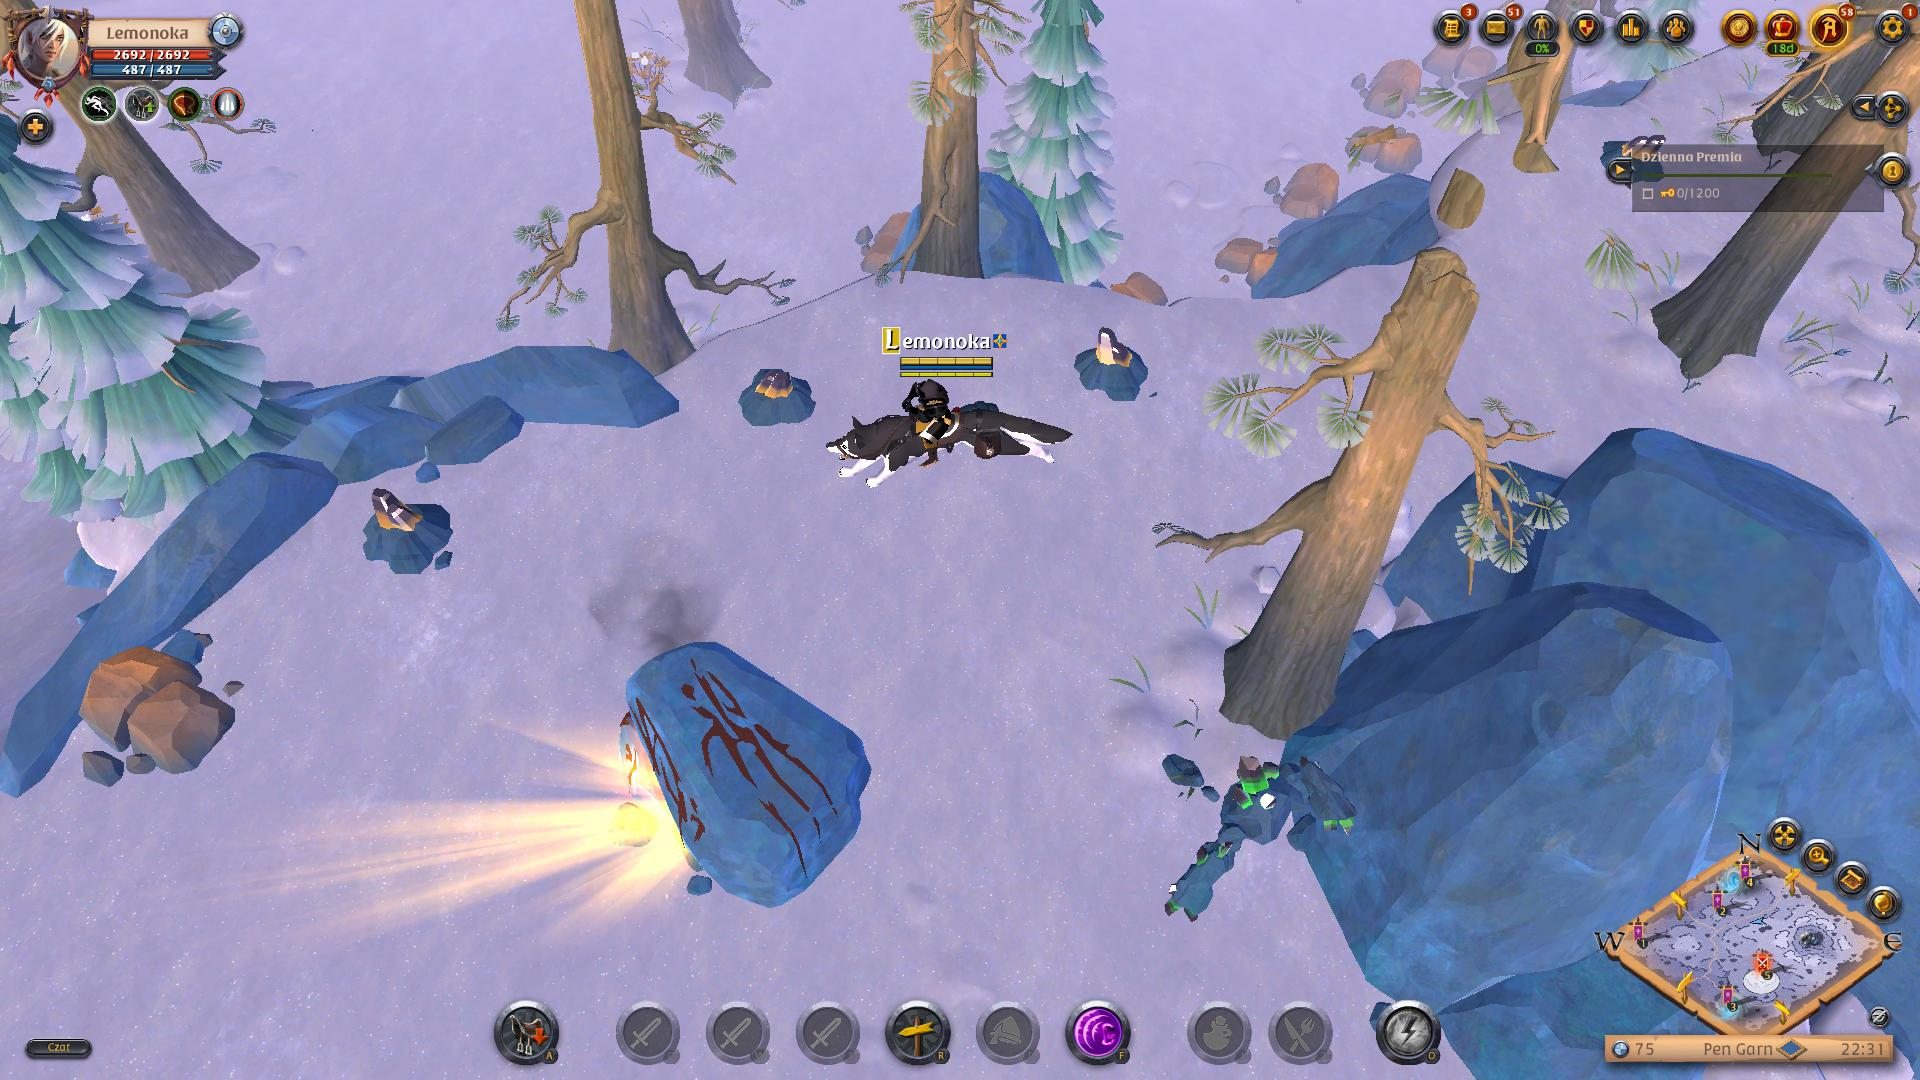ore tier 2: (359, 485, 463, 574), (1072, 324, 1155, 409), (737, 367, 819, 430)
